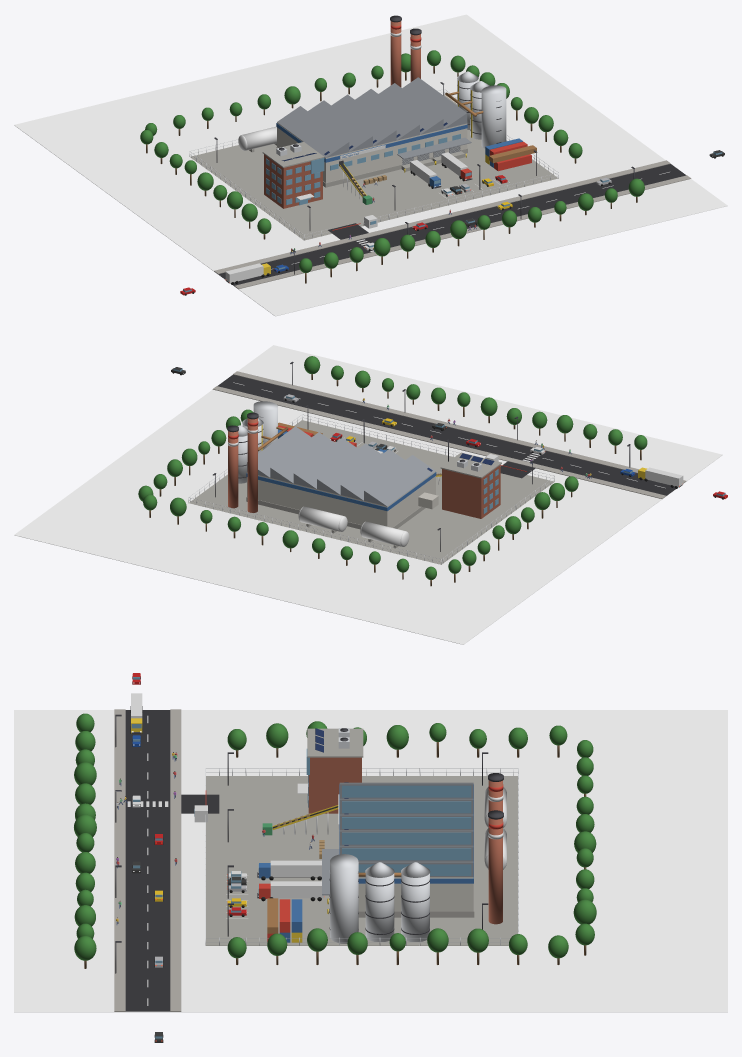
Rendered from factory.glb.
3 renders of one model, top to bottom at view 1: azimuth 30°, elevation 25°; view 2: azimuth 150°, elevation 25°; view 3: azimuth 270°, elevation 25°, orthographic. The views are drawn at different scales.
Parts seen in each view (by area): view 1: Ground, Yard, Road, MainHall, Sidewalk1, RoofTooth0, Office, Silo0, Sidewalk-1, RoofTooth5, RoofTooth1, RoofTooth2 (+8 smaller); view 2: Ground, Yard, Road, MainHall, Sidewalk1, Office, Sidewalk-1, RoofTooth0, RoofTooth1, RoofTooth4, RoofTooth2, RoofTooth3 (+9 smaller); view 3: Ground, Yard, Road, Sidewalk1, Sidewalk-1, Silo0, Office, Silo1, MainHall, Silo2, Skylight0, Skylight1 (+14 smaller).
Part boxes in pixels (x1,y1,x2,y2): Ground: [14, 14, 727, 316]; Yard: [190, 95, 558, 240]; Road: [218, 164, 686, 285]; MainHall: [277, 122, 467, 182]; Sidewalk1: [214, 160, 670, 274]; RoofTooth0: [277, 106, 349, 157]; Office: [264, 154, 322, 208]; Silo0: [481, 85, 506, 148]; Sidewalk-1: [234, 175, 691, 289]; RoofTooth5: [402, 77, 467, 128]; RoofTooth1: [308, 100, 372, 151]; RoofTooth2: [331, 94, 396, 146]; Ground: [14, 345, 722, 644]; Yard: [189, 420, 554, 564]; Road: [217, 374, 675, 495]; MainHall: [247, 471, 435, 527]; Sidewalk1: [212, 386, 665, 498]; Office: [442, 465, 500, 518]; Sidewalk-1: [233, 371, 686, 483]; RoofTooth0: [364, 455, 435, 506]; RoofTooth1: [340, 449, 404, 500]; RoofTooth4: [270, 432, 334, 483]; RoofTooth2: [317, 443, 381, 494]; RoofTooth3: [293, 438, 357, 489]; Ground: [14, 710, 727, 1012]; Yard: [206, 776, 517, 945]; Road: [125, 710, 170, 1011]; Sidewalk1: [170, 709, 181, 1011]; Sidewalk-1: [114, 709, 125, 1011]; Silo0: [330, 854, 358, 943]; Office: [308, 757, 361, 813]; Silo1: [365, 873, 394, 941]; MainHall: [358, 877, 473, 911]; Silo2: [401, 873, 429, 941]; Skylight0: [342, 785, 471, 797]; Skylight1: [342, 801, 471, 813].
Size of the model in its own units: 194 by 35.12 by 160.
